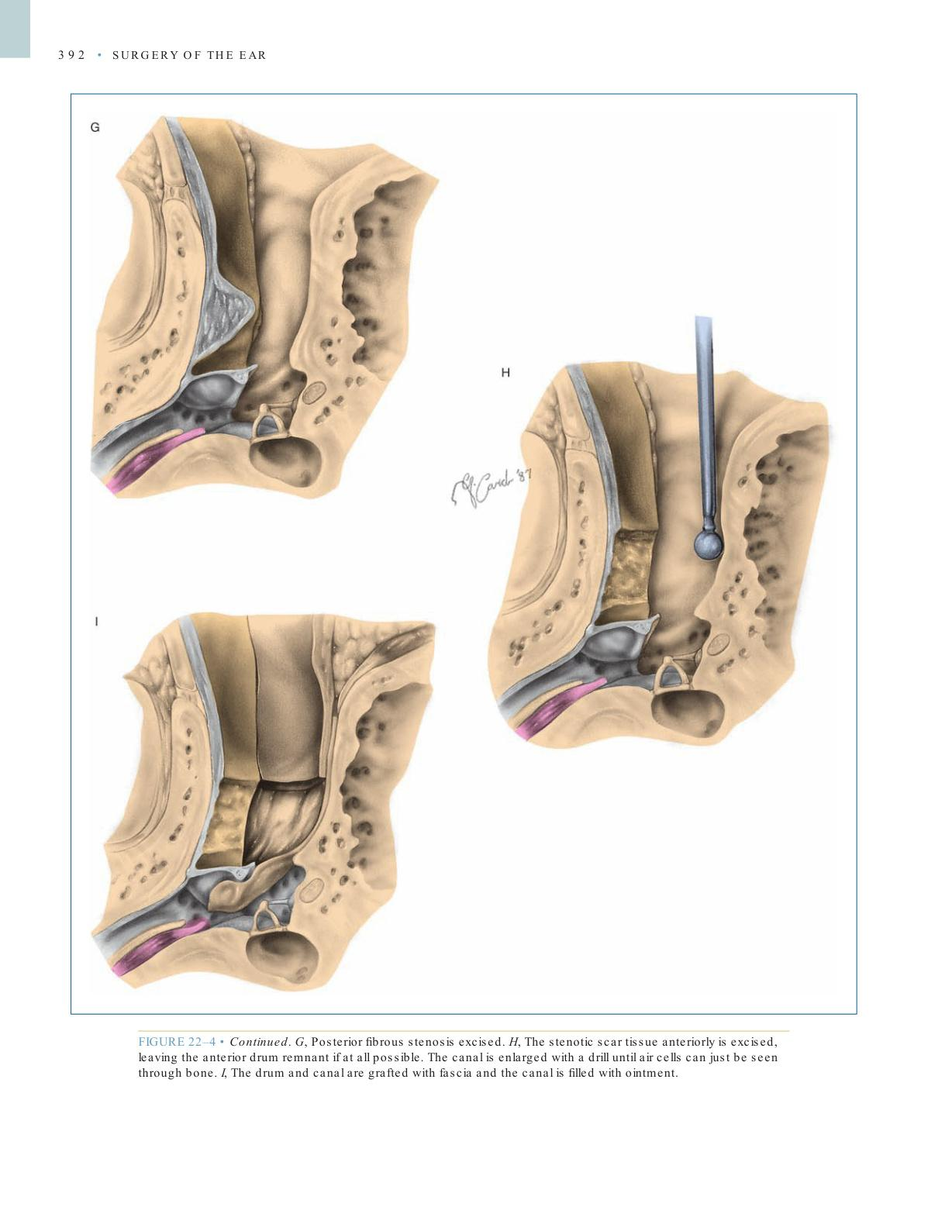caption: (137, 1034, 779, 1079), (89, 120, 101, 133), (501, 365, 511, 378), (94, 615, 99, 627)
header: (109, 47, 267, 61)
image: (481, 310, 836, 752), (86, 605, 445, 999), (87, 111, 444, 505)
